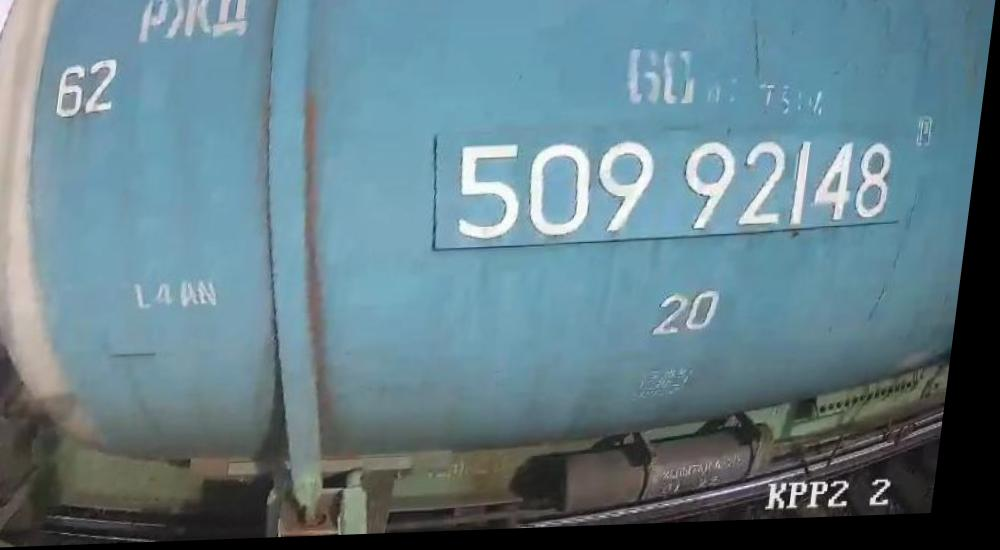Wagon-number: (449, 127, 909, 248)
